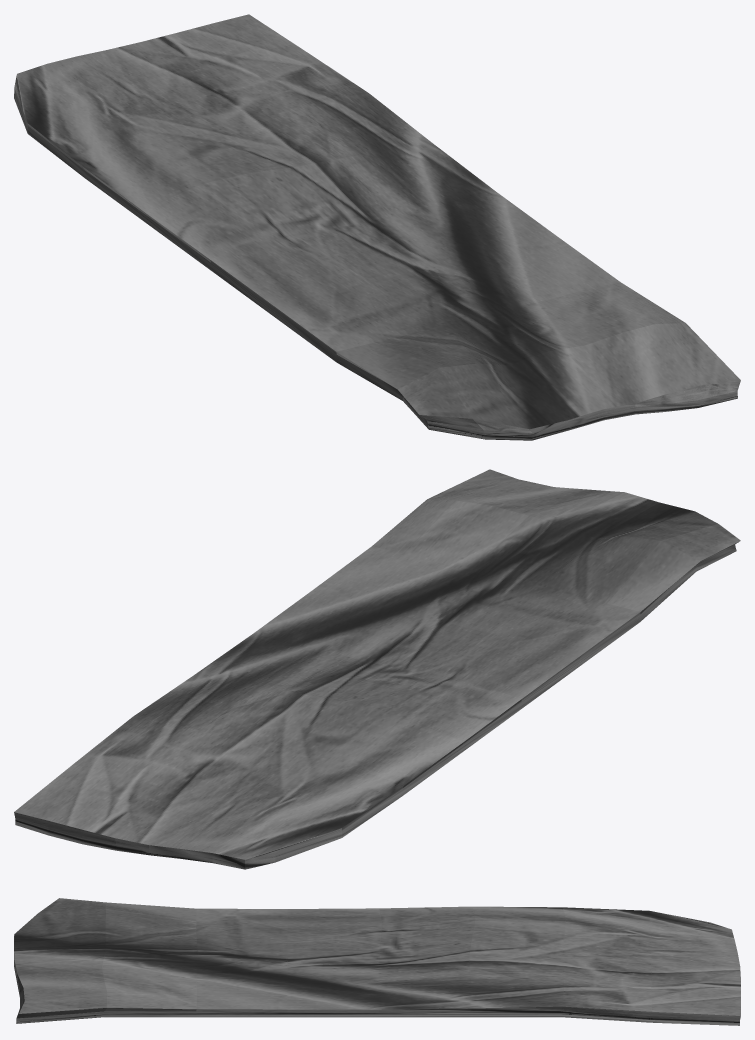
The model's file is duvey.fbx.
3 renders of one model, top to bottom at view 1: azimuth 30°, elevation 25°; view 2: azimuth 150°, elevation 25°; view 3: azimuth 270°, elevation 25°, orthographic. The views are drawn at different scales.
Parts seen in each view (by area): view 1: Cube.002; view 2: Cube.002; view 3: Cube.002.
Part boxes in pixels (x1,y1,x2,y2): Cube.002: (14,14,740,440); Cube.002: (14,469,740,869); Cube.002: (14,898,740,1025).
Size of the model in its own units: 675 by 97.9 by 1955.
1 material, 1 textured.
